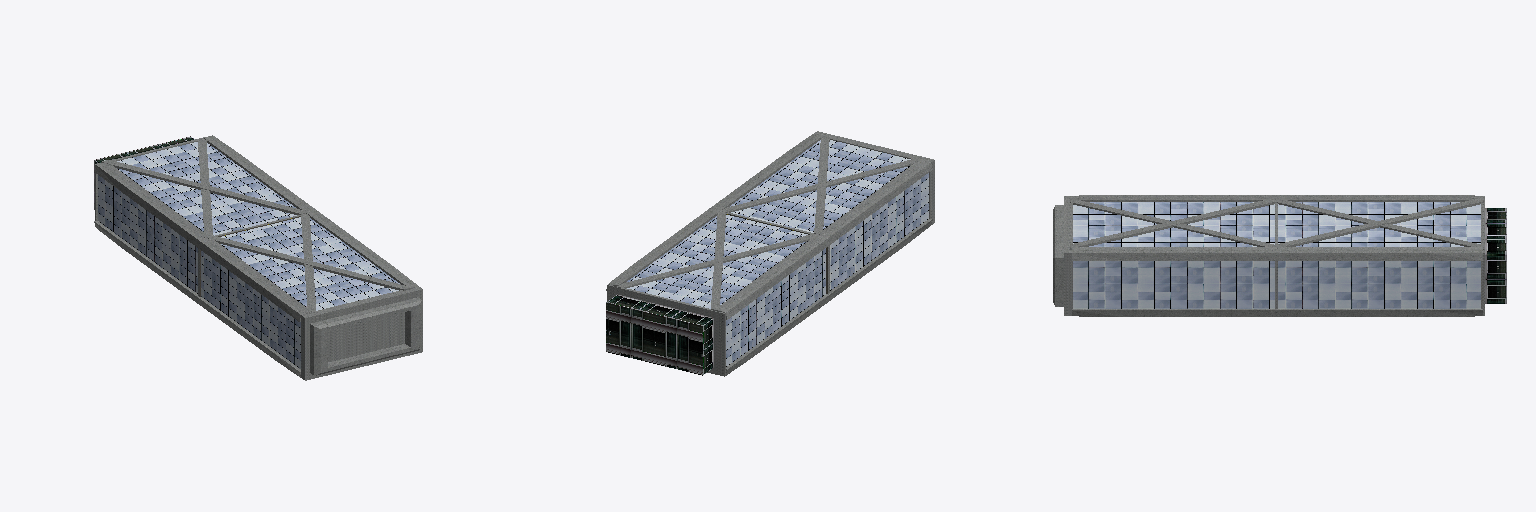
3 renders of one model, left to right at view 1: azimuth 30°, elevation 25°; view 2: azimuth 150°, elevation 25°; view 3: azimuth 270°, elevation 25°, orthographic.
Visible parts, largest first — view 1: Zone_4x4_SeaWall_C_01; view 2: Zone_4x4_SeaWall_C_01; view 3: Zone_4x4_SeaWall_C_01.
Boxes of the visible parts, <box> form: Zone_4x4_SeaWall_C_01: <box>94,135,422,380</box>; Zone_4x4_SeaWall_C_01: <box>606,131,934,376</box>; Zone_4x4_SeaWall_C_01: <box>1053,195,1506,316</box>.
Bounding box in the file's own units: 42.29 × 21.82 × 137.
4 materials, 4 textured.